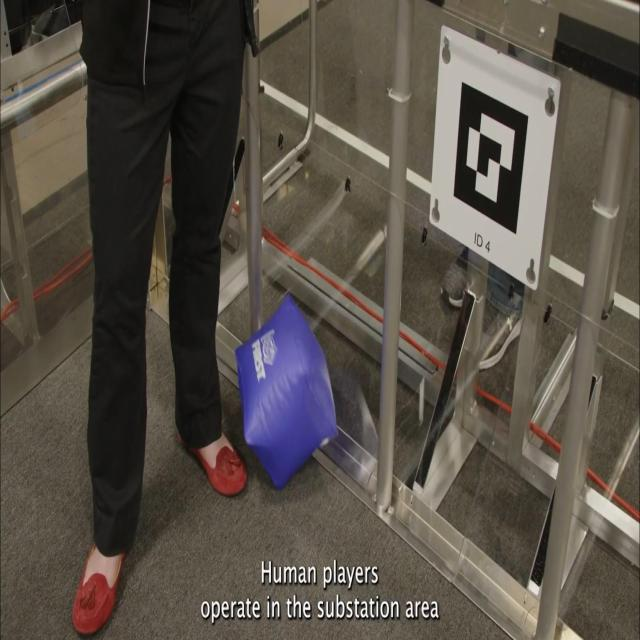frc_cube: (236, 297, 336, 489)
